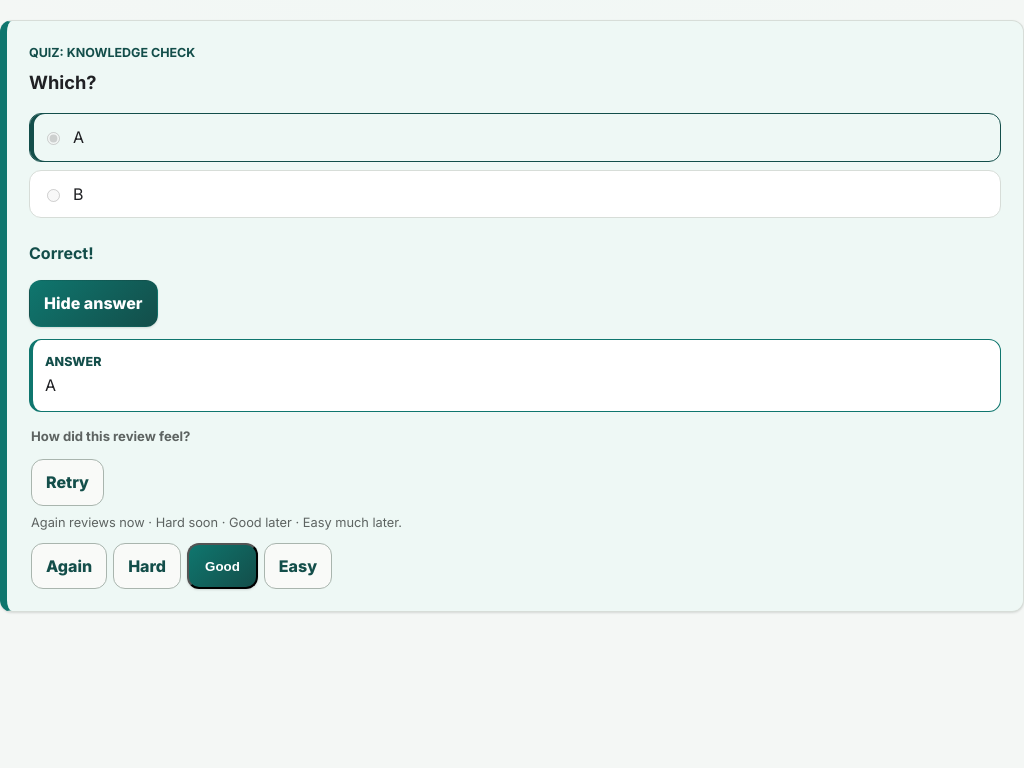
assessment retry › unlocks a restored choice without creating a second answer history
The width and height of the screenshot is (1024, 768).
Click the button with aria-label "Retry this assessment" at (68, 482), box [31,459,104,506]
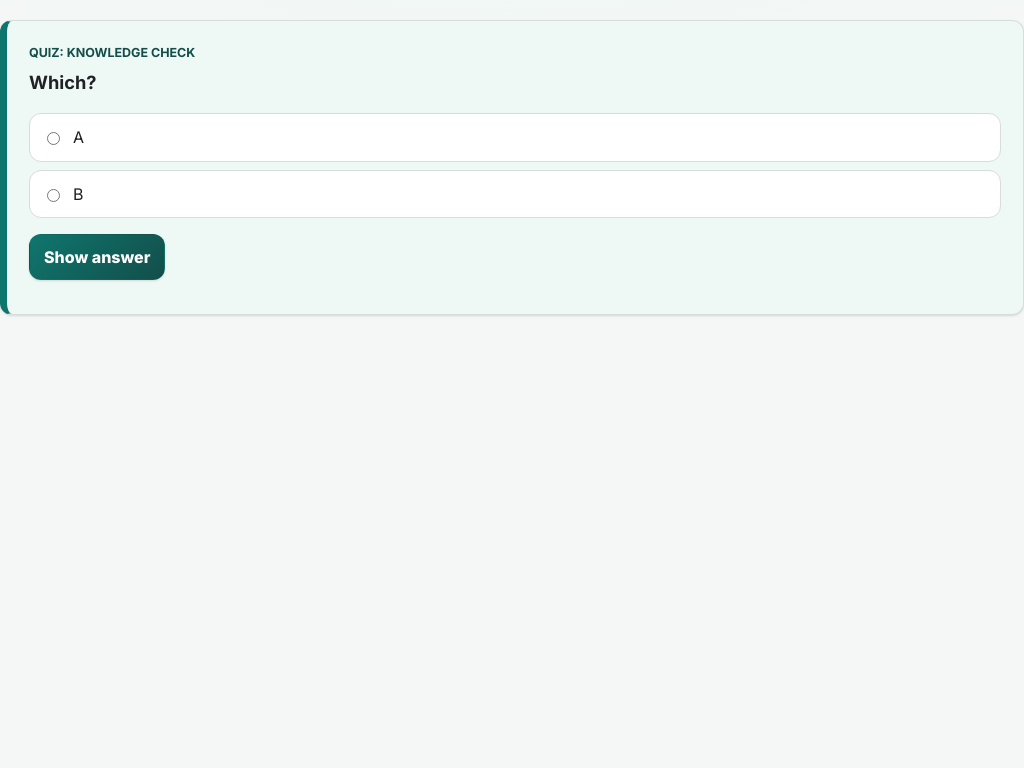
Check: the radio button labelled "A" is not checked, box [47,132,60,145]
